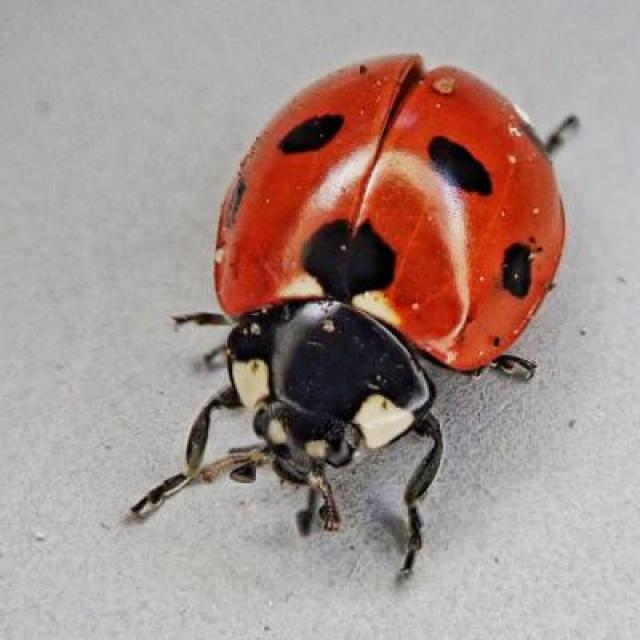antennae: (304, 468, 352, 536), (197, 448, 279, 484)
body: (212, 50, 561, 463)
insect: (132, 51, 586, 584)
legs: (157, 300, 247, 476), (391, 408, 451, 588), (488, 346, 539, 379)
mouthpart: (257, 432, 323, 513)
wings: (216, 54, 564, 370)
